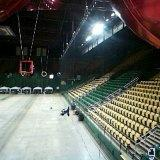Orange_Square_GShape: (19, 60, 35, 74)
Purple_Balloon: (57, 71, 62, 76)
Yellow_Circle_GShape: (41, 71, 47, 78)
